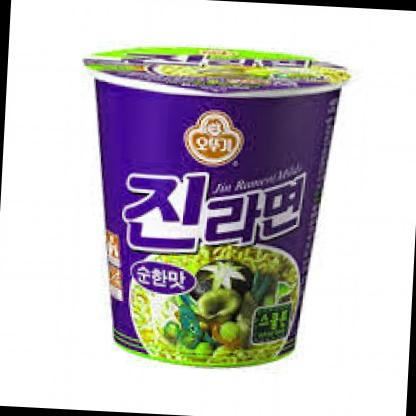Ramen: (63, 38, 354, 378)
